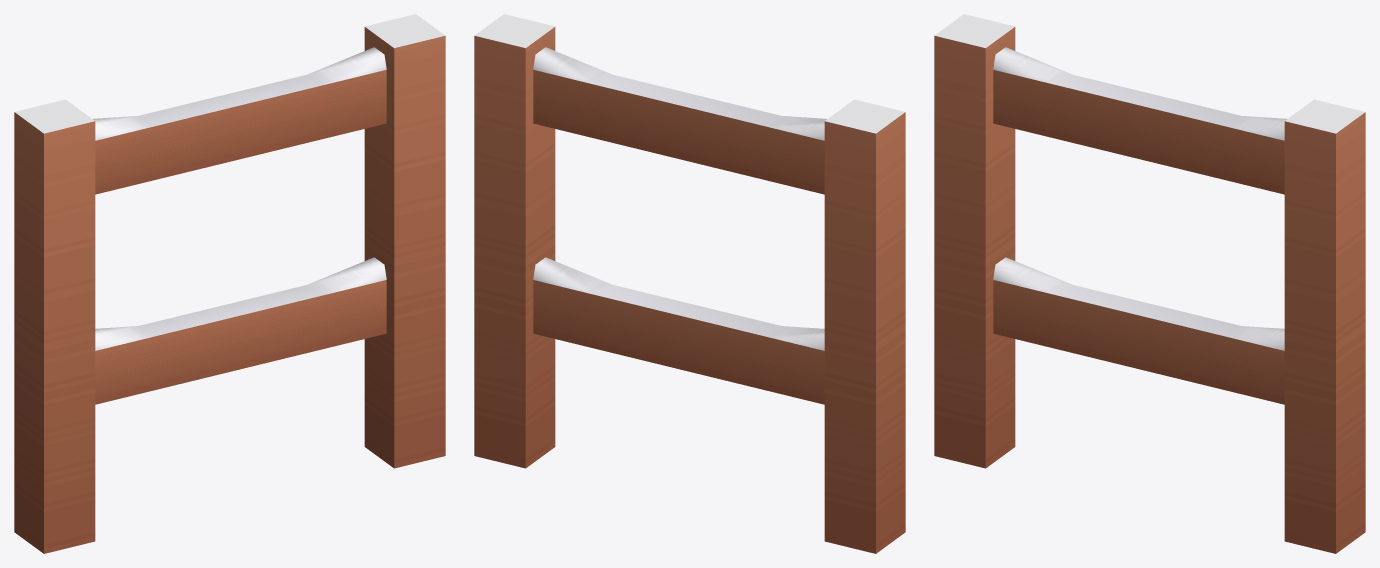
The model's file is snow-wood-structure-high-part.glb.
3 views of the same model, side by side, from view 1: azimuth 30°, elevation 25°; view 2: azimuth 150°, elevation 25°; view 3: azimuth 330°, elevation 25° (orthographic).
Parts seen in each view (by area): view 1: snow-wood-structure-high-part; view 2: snow-wood-structure-high-part; view 3: snow-wood-structure-high-part.
Boxes of the visible parts, x1,y1,x2,y2 form: snow-wood-structure-high-part: (14,14,445,553); snow-wood-structure-high-part: (474,14,905,553); snow-wood-structure-high-part: (934,14,1365,553).
Bounding box in the file's own units: 1 × 1 × 0.1279.
1 material, 1 textured.
